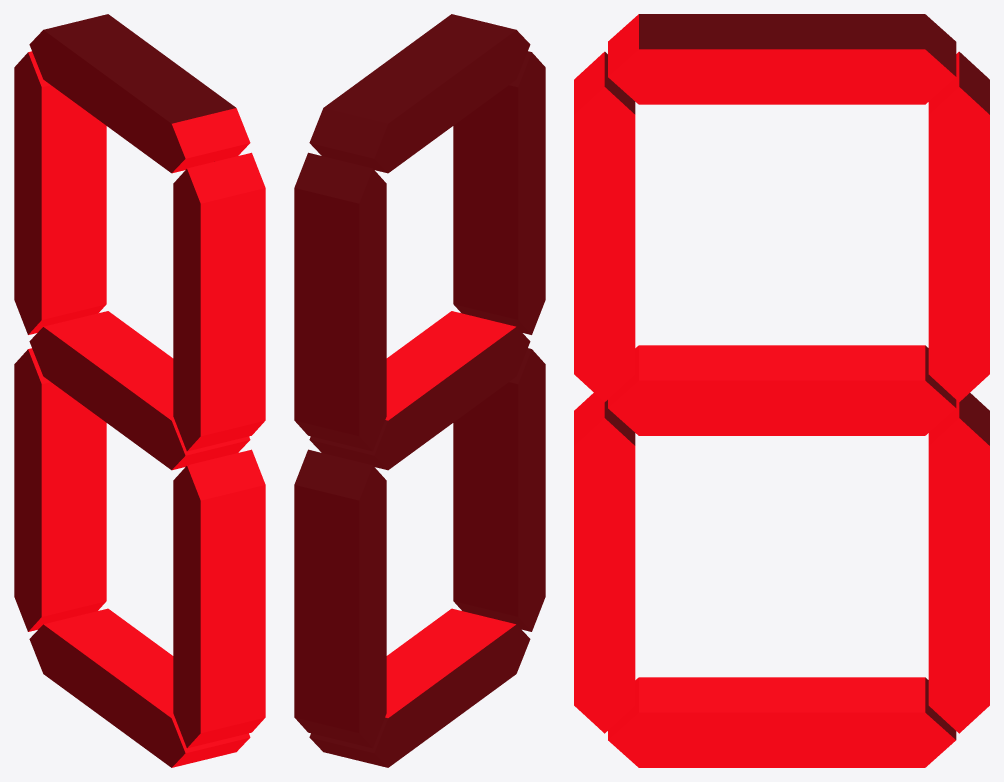
File: score_unit.glb
3 renders of one model, left to right at view 1: azimuth 30°, elevation 25°; view 2: azimuth 150°, elevation 25°; view 3: azimuth 270°, elevation 25°, orthographic. The views are drawn at different scales.
Visible parts, largest first — view 1: on.002, on.005, on.003, on.000, on.001, off.001, on.006, on.004, off.003, off.002, off.000, off.005 (+2 smaller); view 2: off.000, off.003, on.000, on.003, off.005, on.005, off.002, on.002, off.001, on.001, on.006, on.004 (+2 smaller); view 3: on.001, on.006, on.004, on.000, on.002, on.003, on.005, off.001, off.000, off.003.
Boxes of the visible parts, left/top/right/bottom form: on.002: left=173, top=152, right=265, bottom=451; on.005: left=173, top=449, right=265, bottom=748; on.003: left=14, top=348, right=106, bottom=631; on.000: left=14, top=51, right=106, bottom=334; on.001: left=29, top=14, right=250, bottom=173; off.001: left=29, top=14, right=235, bottom=172; on.006: left=29, top=608, right=250, bottom=767; on.004: left=29, top=311, right=250, bottom=470; off.003: left=14, top=349, right=41, bottom=631; off.002: left=173, top=169, right=200, bottom=450; off.000: left=14, top=53, right=41, bottom=334; off.005: left=173, top=466, right=200, bottom=747; off.000: left=294, top=153, right=386, bottom=451; off.003: left=294, top=449, right=386, bottom=748; on.000: left=294, top=153, right=386, bottom=450; on.003: left=294, top=450, right=386, bottom=747; off.005: left=453, top=348, right=545, bottom=631; on.005: left=453, top=348, right=545, bottom=631; off.002: left=453, top=51, right=545, bottom=334; on.002: left=453, top=51, right=545, bottom=334; off.001: left=309, top=14, right=530, bottom=173; on.001: left=309, top=14, right=529, bottom=172; on.006: left=309, top=608, right=529, bottom=767; on.004: left=309, top=311, right=529, bottom=469; on.001: left=608, top=14, right=955, bottom=104; on.006: left=608, top=677, right=955, bottom=767; on.004: left=608, top=345, right=955, bottom=435; on.000: left=928, top=51, right=989, bottom=402; on.002: left=574, top=51, right=635, bottom=402; on.003: left=928, top=393, right=989, bottom=733; on.005: left=574, top=393, right=635, bottom=733; off.001: left=639, top=14, right=956, bottom=76; off.000: left=959, top=52, right=989, bottom=114; off.003: left=959, top=393, right=989, bottom=445.
Bounding box in the file's own units: 2.66 × 25.17 × 13.2.
